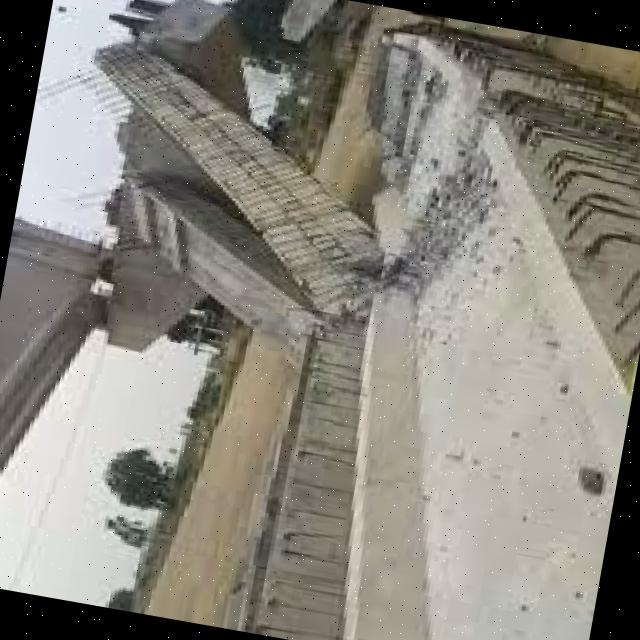bridge collapse: (8, 0, 495, 502)
